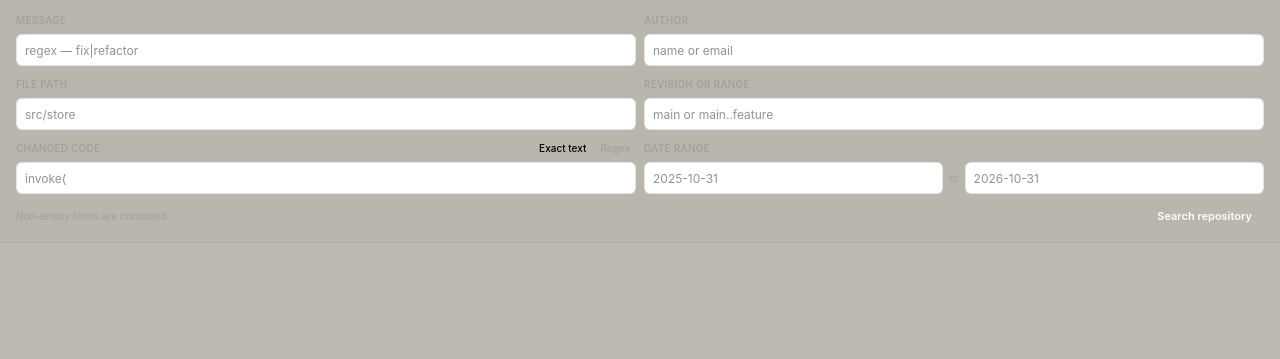
Test: AdvancedHistorySearch async isolation › stops reveal paging when a page makes no graph-limit progress
The image size is (1280, 359).
Type "fix" into the field with placeholder "regex — fix|refactor" at point(326, 50), box left=16, top=34, right=636, bottom=66
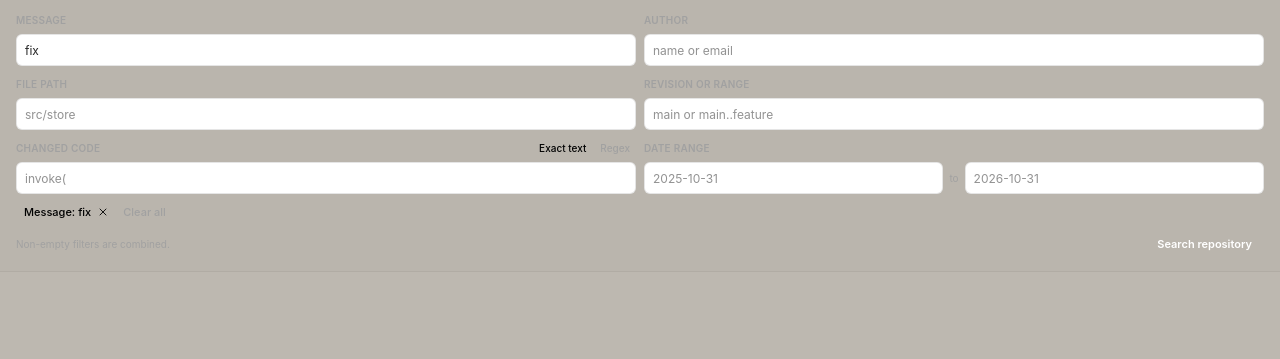
Click the button "Search repository" at point(1205, 244), box left=1145, top=230, right=1264, bottom=258
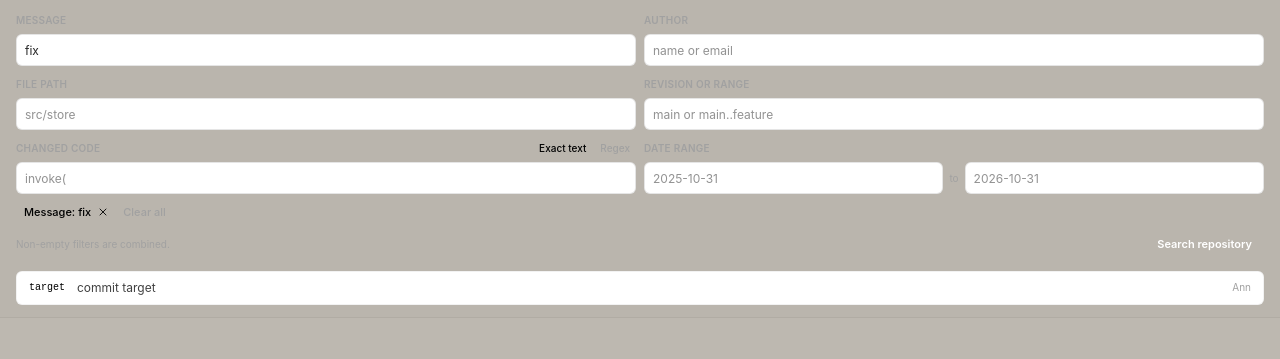
Expected: the text "commit target" is shown, left=77, top=280, right=156, bottom=294
Click the button "target commit target Ann" at point(47, 288), box left=17, top=272, right=1263, bottom=304
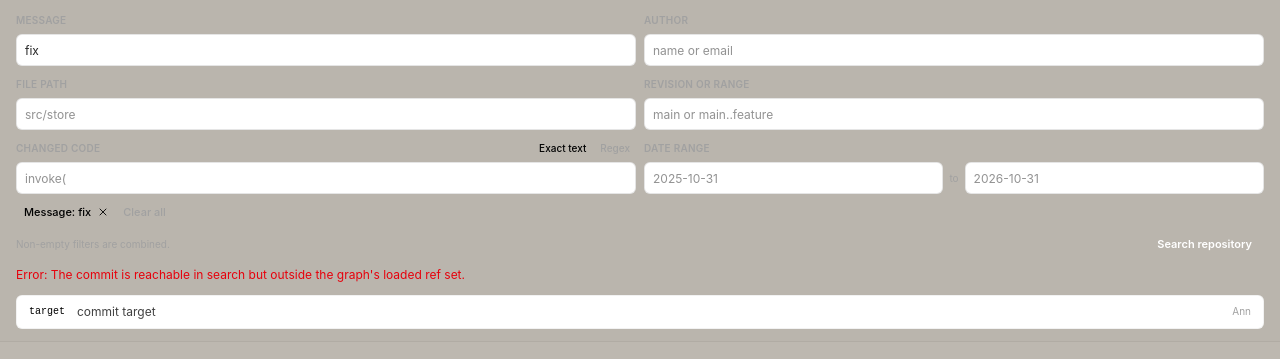
Expected: the message shows "The commit is reachable in search but outside the graph's loaded ref set.", left=16, top=266, right=465, bottom=282
